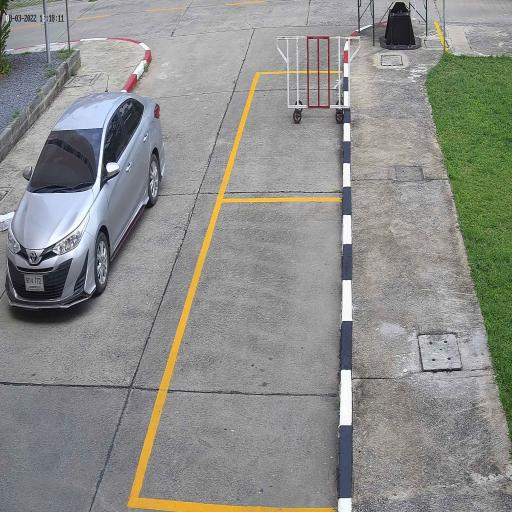car: (4, 88, 167, 314)
